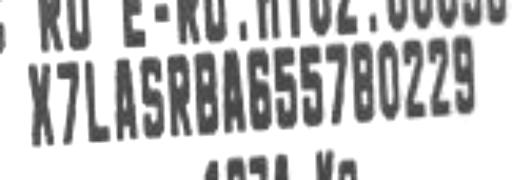letter: (240, 44, 274, 134), (161, 50, 195, 140), (79, 53, 113, 143), (110, 53, 142, 146), (190, 47, 220, 143), (50, 56, 82, 146), (398, 31, 430, 118), (372, 38, 404, 125), (348, 37, 378, 127), (218, 44, 248, 134), (136, 53, 166, 143), (26, 60, 56, 150), (448, 31, 480, 115), (322, 37, 350, 127), (272, 44, 300, 134), (425, 33, 453, 120), (297, 44, 325, 131)
